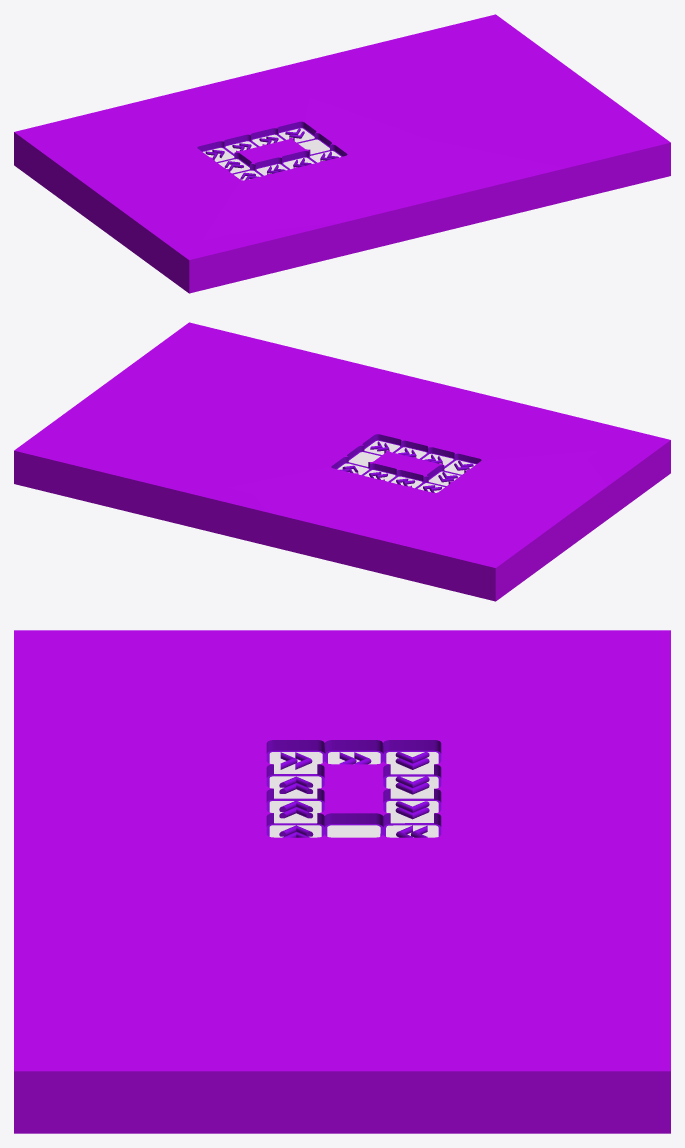
The model's file is level4.fbx.
3 views of the same model, one above another, from view 1: azimuth 30°, elevation 25°; view 2: azimuth 150°, elevation 25°; view 3: azimuth 270°, elevation 25° (orthographic). The views are drawn at different scales.
Visible parts, largest first — view 1: lv4z.001; view 2: lv4z.001; view 3: lv4z.001.
Boxes of the visible parts, left/top/right/bottom form: lv4z.001: left=14, top=14, right=670, bottom=293; lv4z.001: left=14, top=322, right=670, bottom=601; lv4z.001: left=14, top=630, right=670, bottom=1133.
Bounding box in the file's own units: 7677 × 513 × 4834.
